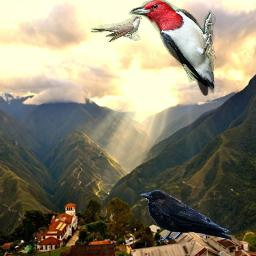Crow: (139, 190, 233, 242)
Cuckoo: (91, 16, 142, 42)
Woodpecker: (128, 0, 219, 96)
